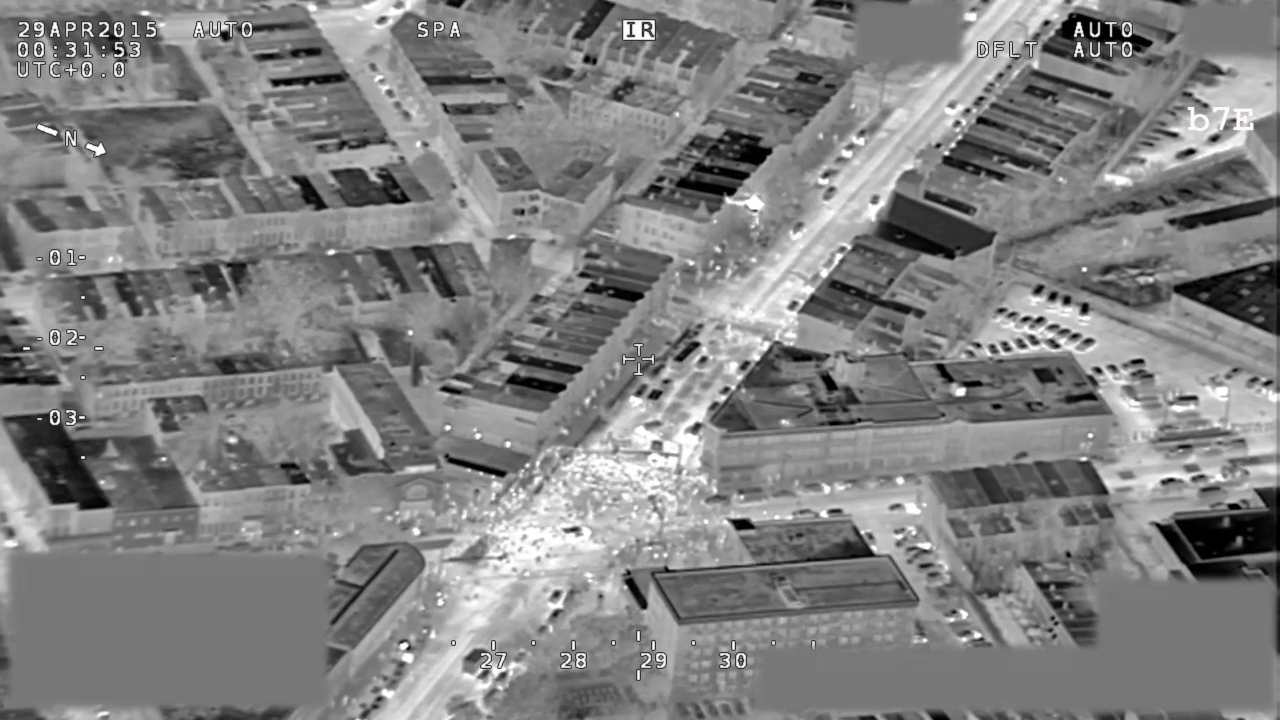vehicle: (671, 341, 701, 374), (632, 419, 669, 443), (461, 647, 489, 674), (730, 487, 771, 505), (558, 524, 595, 543), (1200, 486, 1235, 506), (1165, 444, 1204, 460), (883, 503, 923, 517), (1181, 91, 1209, 111), (800, 482, 832, 499), (832, 480, 866, 496), (921, 571, 954, 587), (900, 539, 936, 553), (1088, 364, 1109, 388), (1029, 281, 1049, 306), (1168, 396, 1201, 411), (700, 495, 730, 511), (942, 607, 968, 625), (1152, 127, 1181, 143), (643, 388, 664, 410), (545, 588, 567, 609), (1193, 69, 1215, 90), (630, 381, 651, 402), (861, 529, 883, 549), (683, 423, 701, 447), (959, 629, 986, 645), (1200, 59, 1227, 75), (1076, 301, 1092, 327), (988, 305, 1011, 323), (1254, 381, 1275, 400), (1001, 309, 1020, 330), (737, 359, 755, 381), (1118, 358, 1148, 371), (1028, 316, 1047, 336), (392, 656, 408, 679), (907, 555, 940, 566), (1102, 360, 1121, 379), (787, 220, 805, 240), (896, 526, 926, 538), (1191, 473, 1218, 486), (1075, 339, 1094, 357), (1042, 321, 1059, 341), (1127, 153, 1147, 170), (816, 172, 837, 188), (1242, 375, 1263, 391), (1044, 289, 1060, 310), (1176, 147, 1197, 163), (833, 242, 849, 263), (1053, 327, 1071, 345), (853, 130, 868, 151), (1014, 315, 1032, 332), (821, 187, 837, 206), (1224, 367, 1244, 382), (1061, 294, 1073, 318), (1158, 477, 1184, 488), (944, 98, 959, 117), (1067, 333, 1083, 350), (997, 338, 1014, 354), (1013, 337, 1029, 354), (371, 695, 389, 710), (705, 401, 720, 419), (373, 16, 392, 30), (659, 378, 676, 393), (1143, 136, 1162, 148), (786, 300, 801, 315), (373, 76, 390, 89), (360, 706, 378, 718), (693, 357, 707, 372), (1001, 63, 1017, 76), (366, 60, 382, 73), (988, 342, 1000, 359), (384, 682, 401, 694), (868, 193, 881, 208), (1028, 335, 1041, 350), (962, 347, 978, 359), (842, 147, 856, 160), (972, 340, 985, 354), (392, 97, 404, 112), (952, 122, 966, 134), (973, 97, 987, 109), (983, 84, 997, 96), (384, 87, 396, 101), (960, 106, 973, 117), (1207, 138, 1222, 147), (401, 109, 411, 122), (835, 160, 846, 171), (995, 73, 1004, 85)
